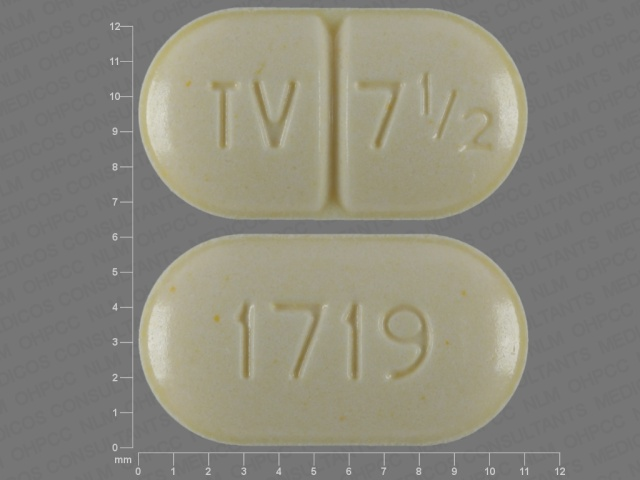1: (272, 298, 333, 387), (226, 296, 260, 384), (340, 302, 370, 384)
1/2: (411, 68, 496, 159)
7: (354, 76, 401, 152)
9: (378, 303, 438, 381)
T: (208, 76, 242, 153)
V: (248, 77, 299, 153)
|: (314, 5, 348, 224)
